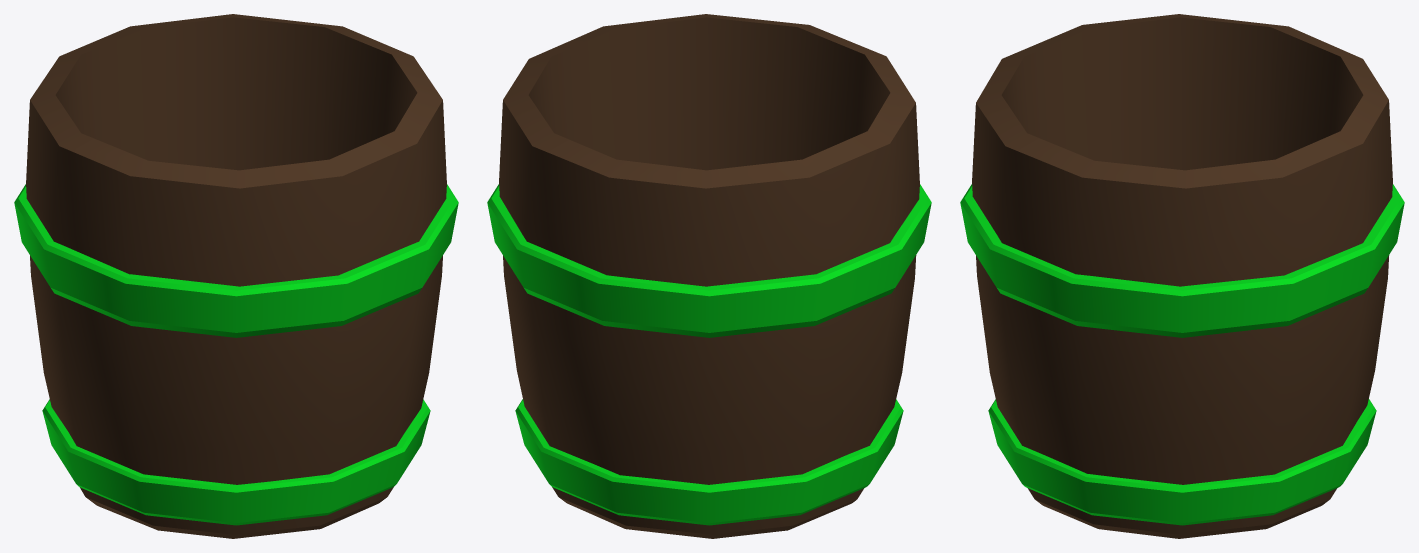
File: Balde.fbx
3 views of the same model, side by side, from view 1: azimuth 30°, elevation 25°; view 2: azimuth 150°, elevation 25°; view 3: azimuth 270°, elevation 25° (orthographic).
Visible parts, largest first — view 1: Balde_low; view 2: Balde_low; view 3: Balde_low.
Boxes of the visible parts, x1=… form: Balde_low: x1=14, y1=14, x2=458, y2=538; Balde_low: x1=487, y1=14, x2=931, y2=538; Balde_low: x1=960, y1=14, x2=1404, y2=538.
Bounding box in the file's own units: 40.44 × 37.77 × 40.44.
